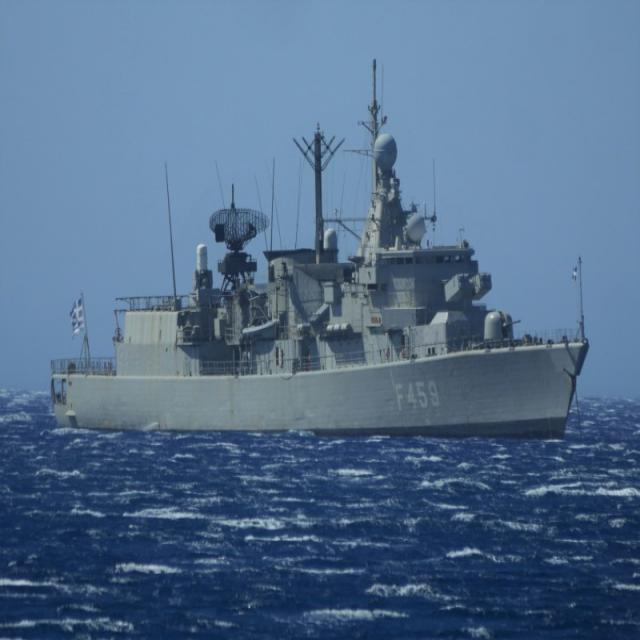Fragata: (50, 39, 603, 451)
